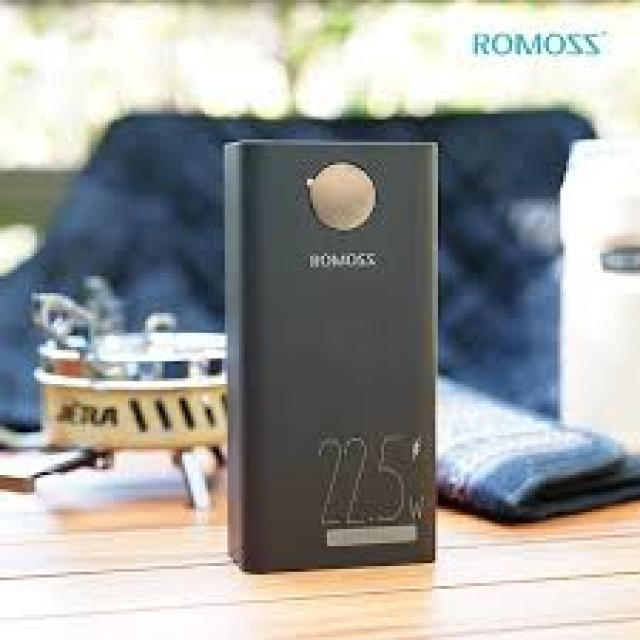power_bank: (220, 139, 437, 575)
